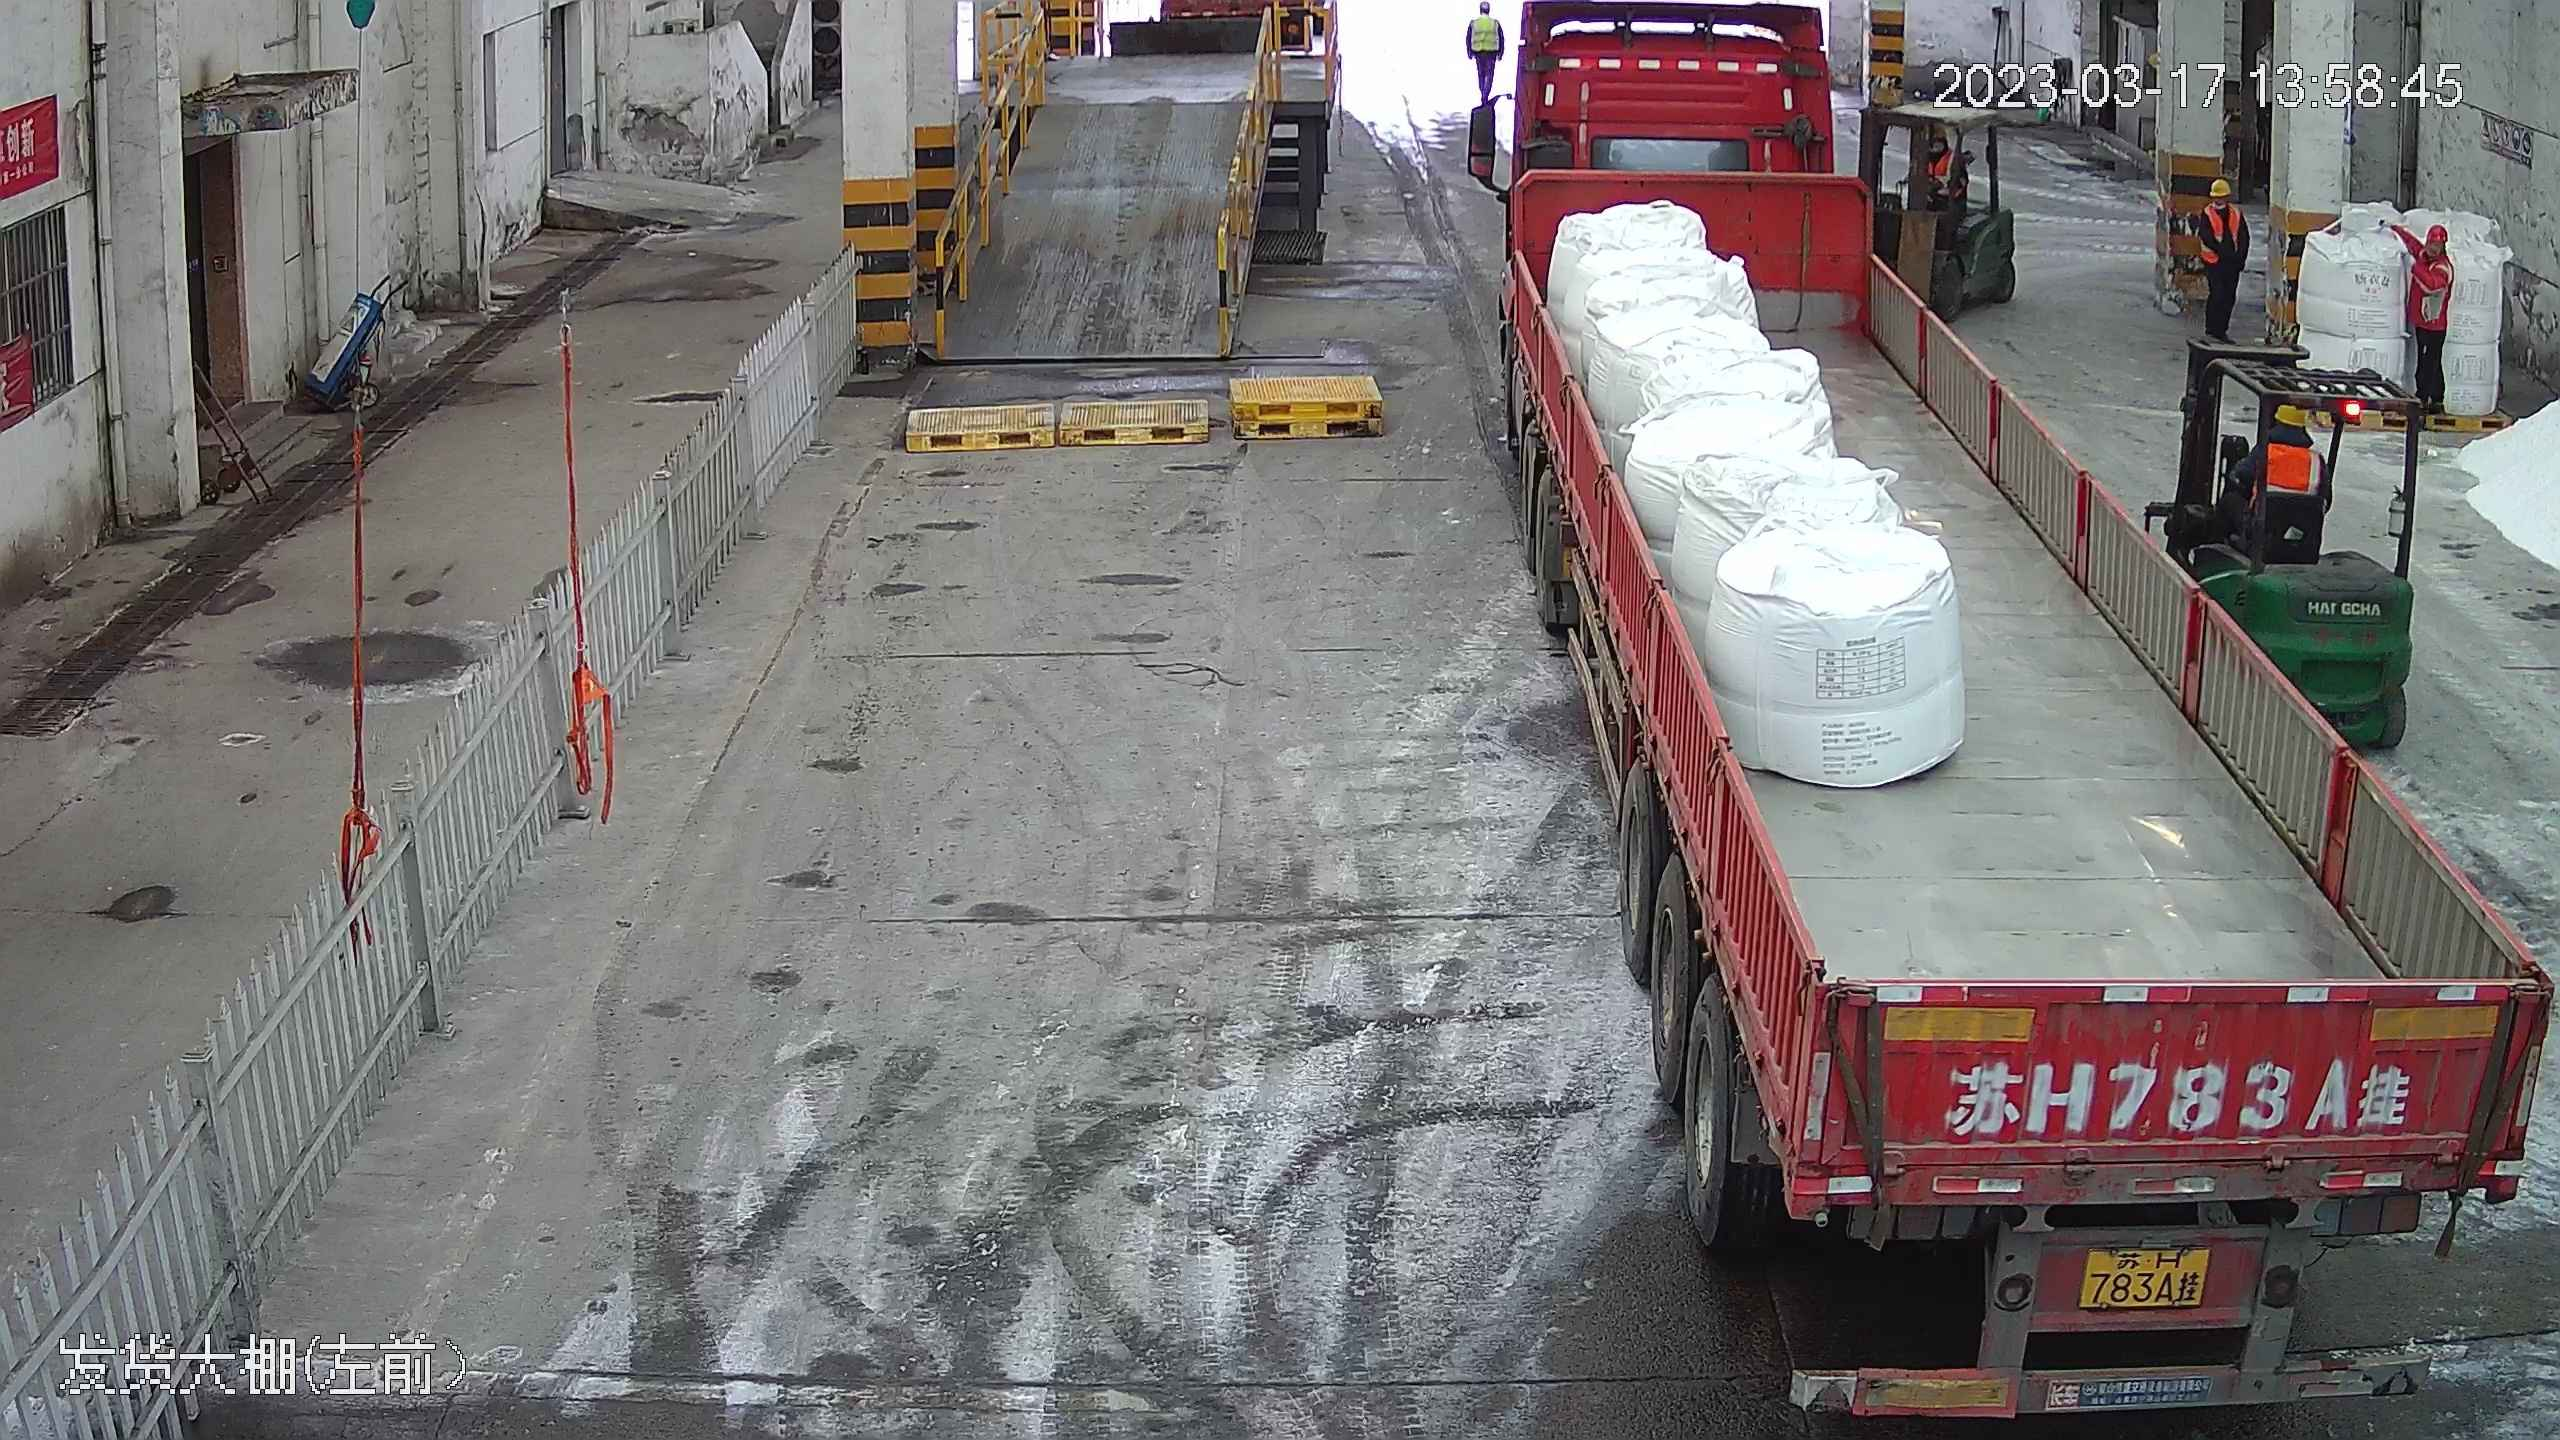head: (2257, 401, 2320, 472), (2411, 218, 2455, 279), (2197, 173, 2244, 228)
helmet: (2196, 174, 2242, 228), (2275, 400, 2309, 425), (2426, 222, 2450, 245), (2207, 173, 2232, 192)
people: (2394, 212, 2453, 414), (2191, 173, 2247, 339)
truck: (1479, 12, 2545, 1404)
